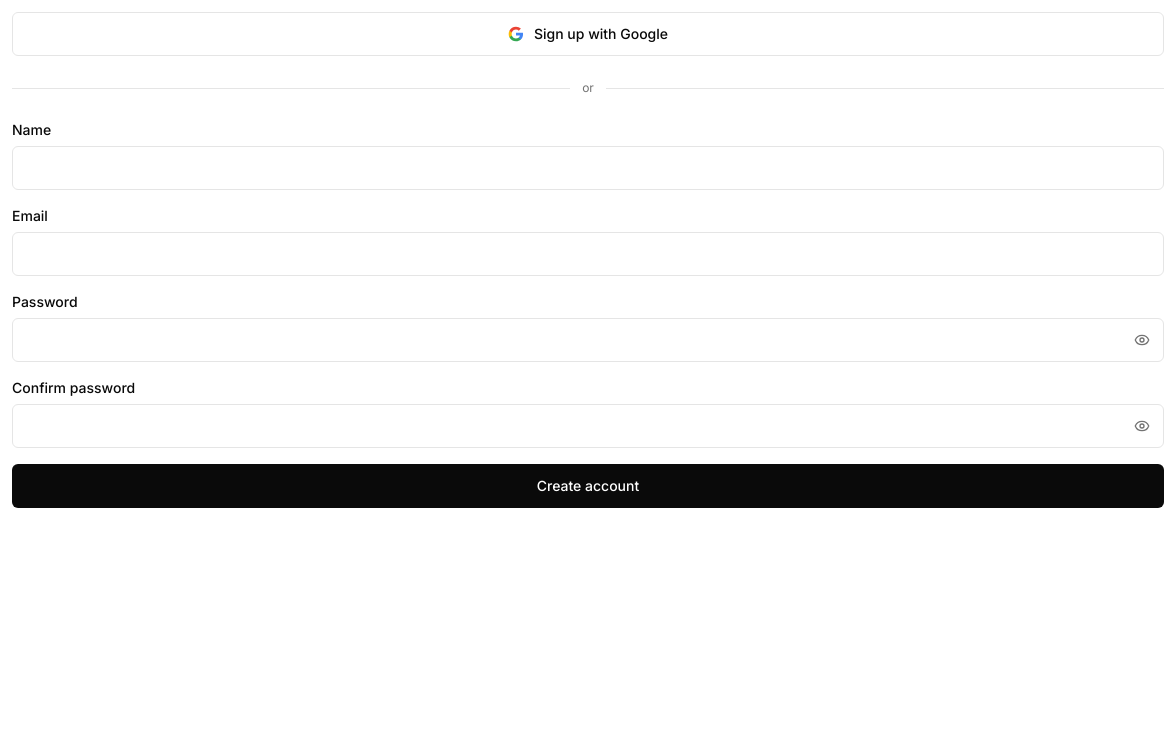
Test: SignUp › rejects mismatched passwords
Type "Ada Lovelace" into the field labelled "Name" at (588, 168), box [12, 146, 1164, 190]
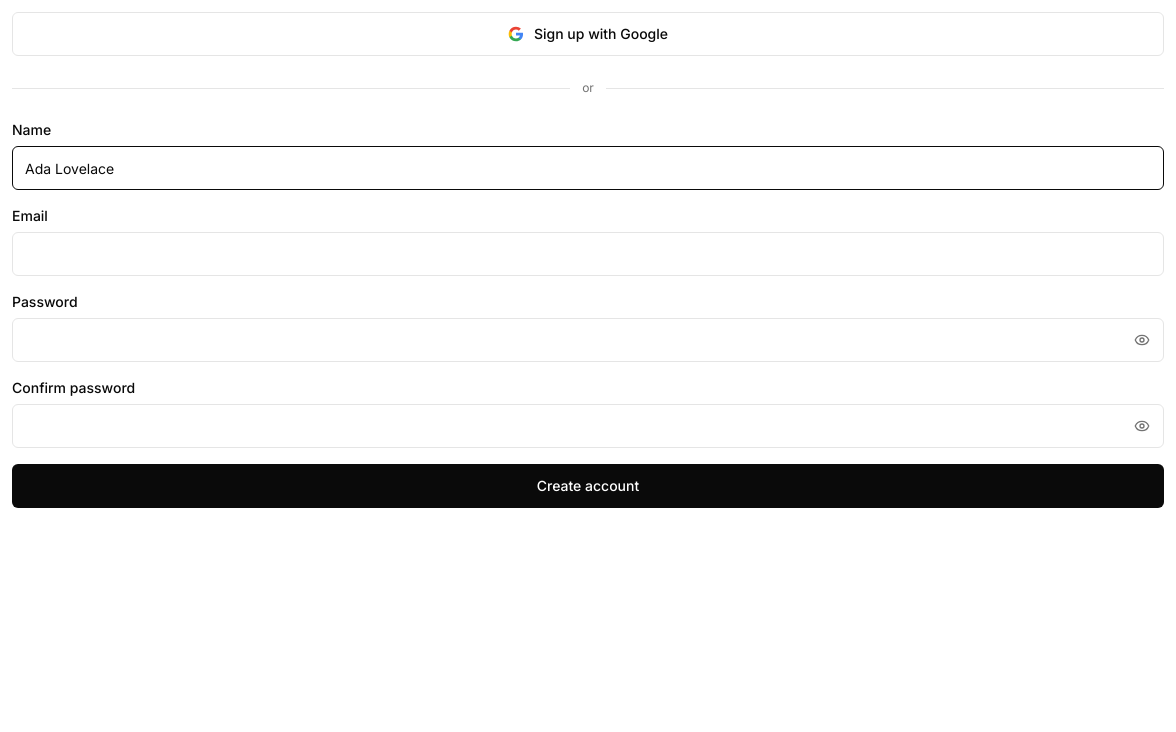
Type "ada@example.test" into the field labelled "Email" at (588, 254), box [12, 232, 1164, 276]
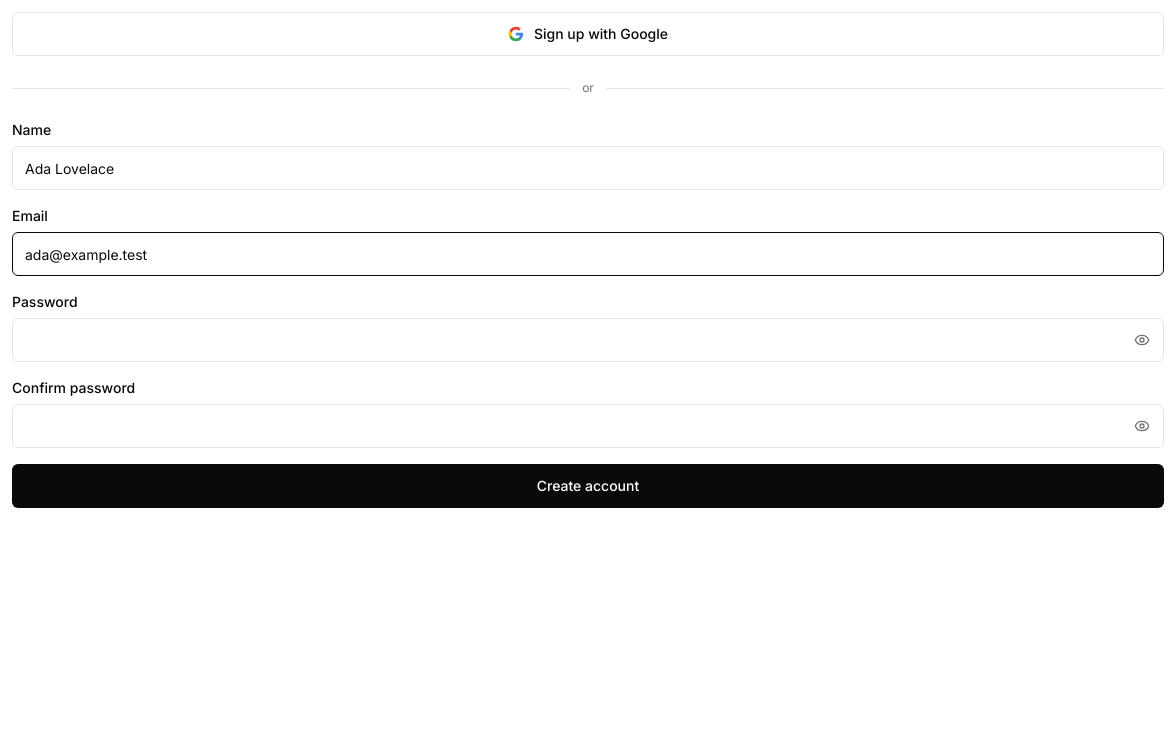
Type "secret123" into the password field labelled "Password" at (588, 340), box [12, 318, 1164, 362]
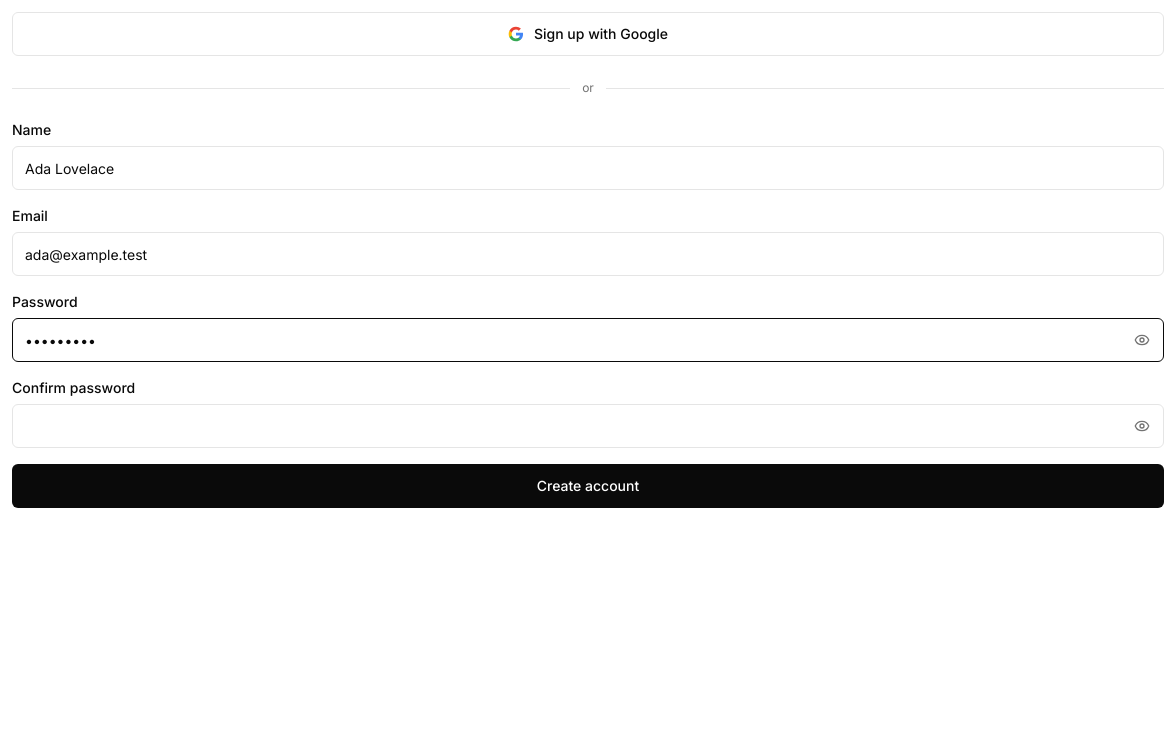
Type "secret124" into the password field labelled "Confirm password" at (588, 426), box [12, 404, 1164, 448]
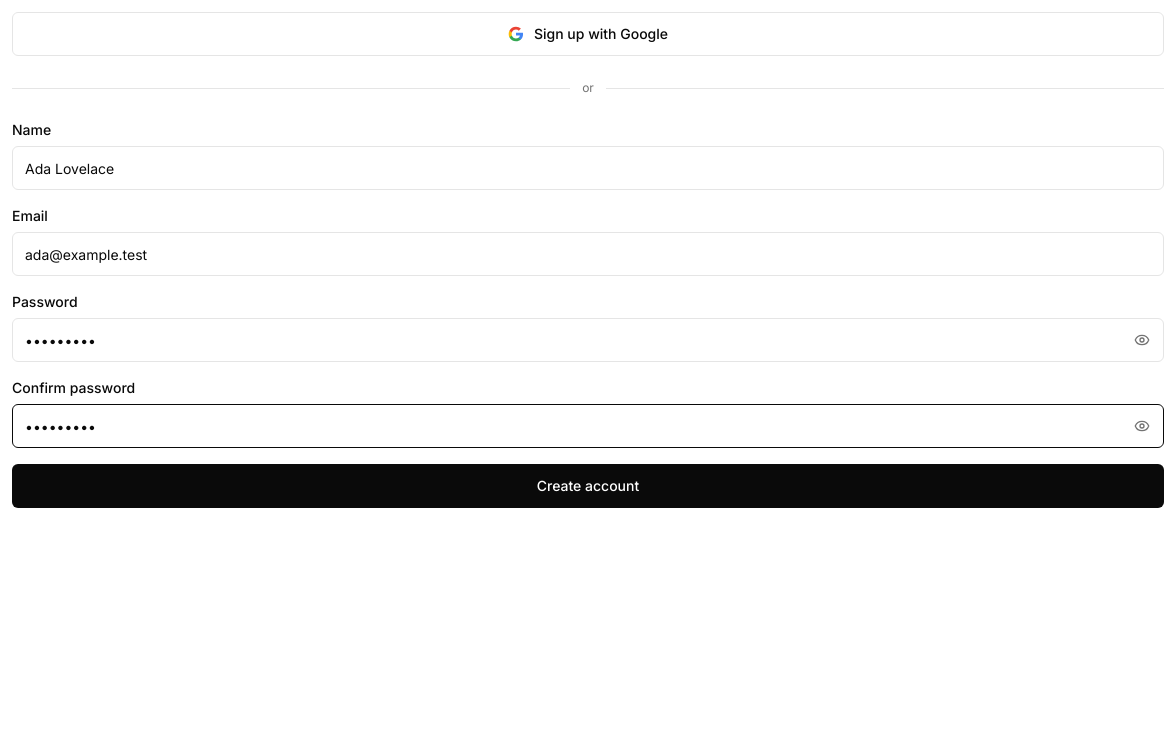
Click the button "Create account" at (588, 486), box [12, 464, 1164, 508]
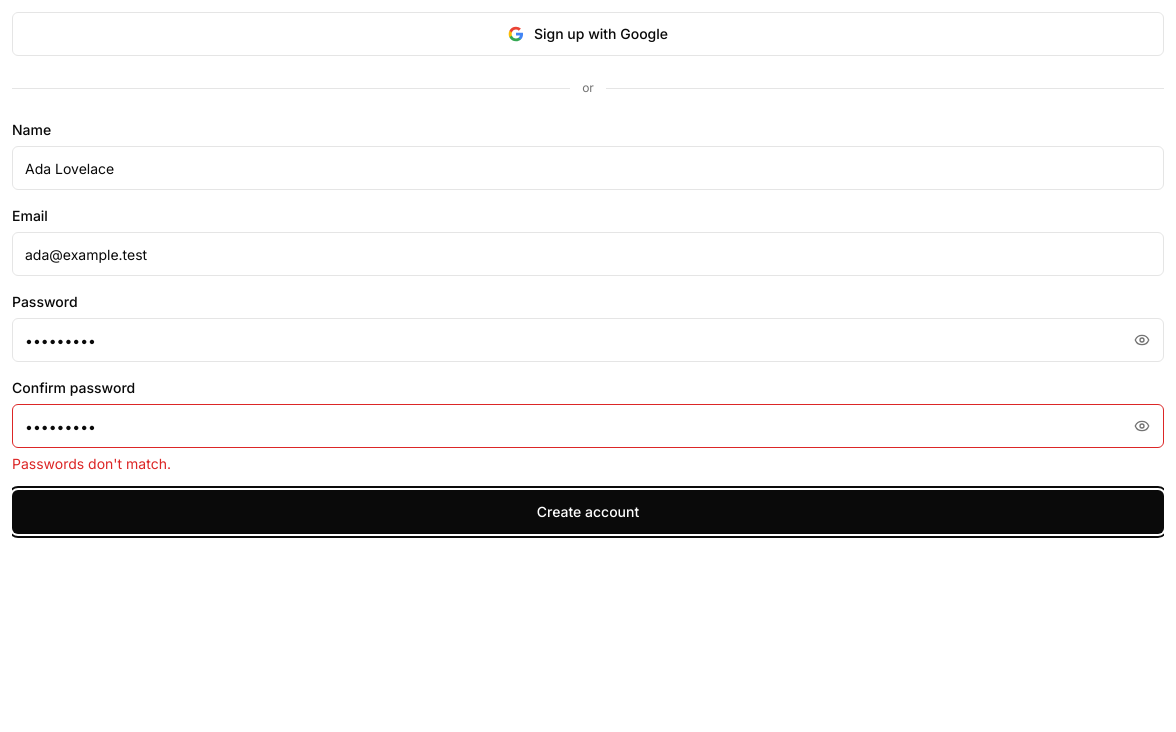
Result: the text "Passwords don't match." is shown at [12, 455, 171, 472]
